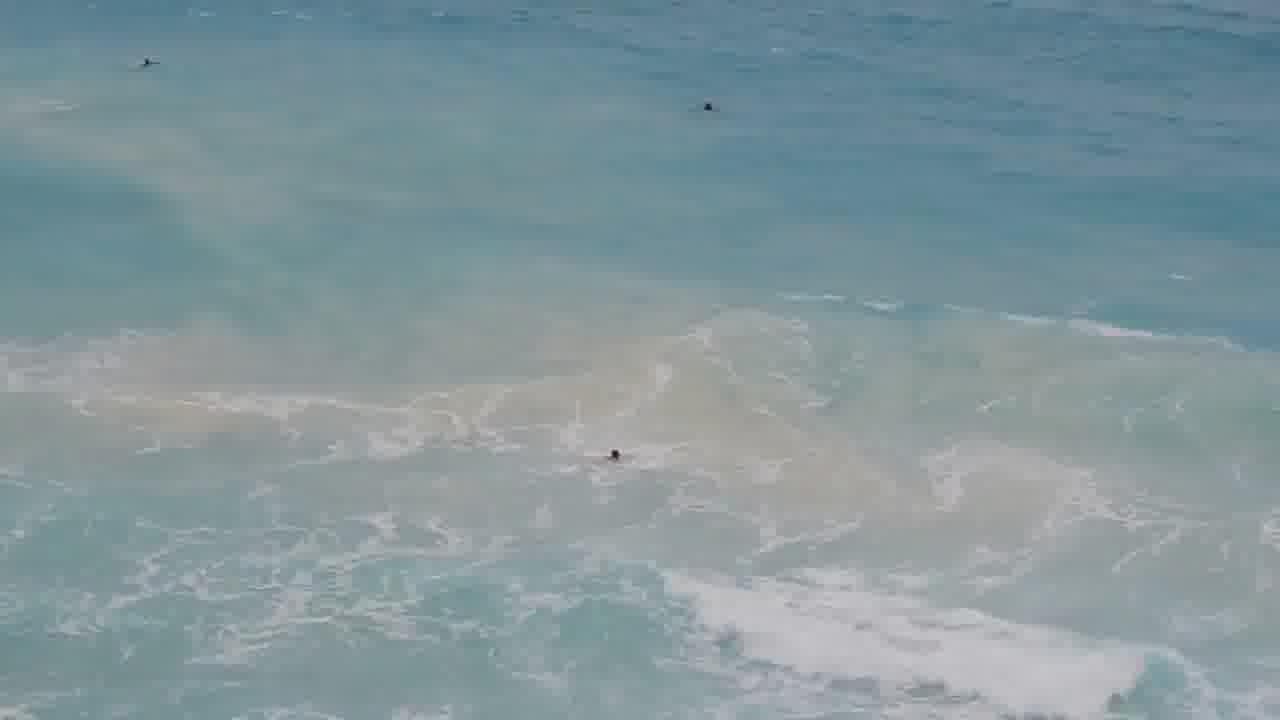human: (588, 430, 636, 471), (693, 84, 731, 127), (121, 55, 186, 74)
